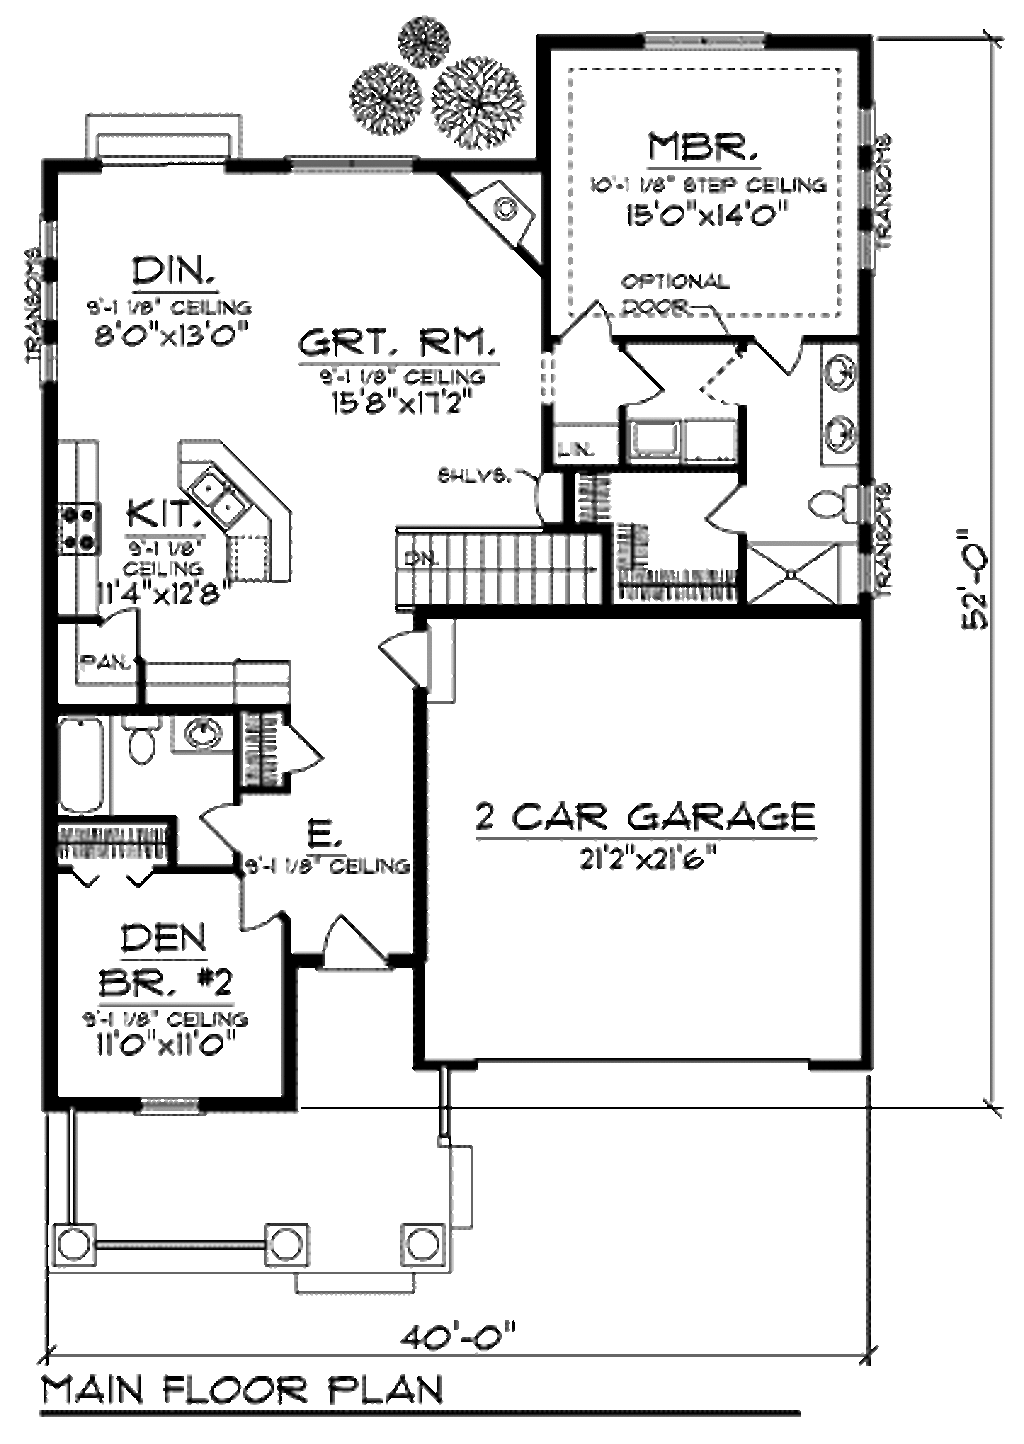door: (231, 875, 308, 940), (181, 796, 257, 860), (693, 467, 759, 540), (379, 618, 441, 687), (86, 602, 158, 660), (326, 920, 397, 976), (610, 347, 668, 409), (555, 294, 624, 345), (704, 340, 752, 409), (275, 725, 328, 785), (755, 331, 808, 382)
kitchen_bar: (161, 434, 326, 598)
large_sink: (795, 478, 868, 534), (115, 707, 164, 771)
small_sink: (817, 340, 864, 460), (173, 709, 244, 756)
stairs: (395, 529, 610, 614)
tub: (64, 718, 117, 818)
window: (624, 22, 781, 57), (275, 139, 414, 176), (130, 1087, 208, 1125)
